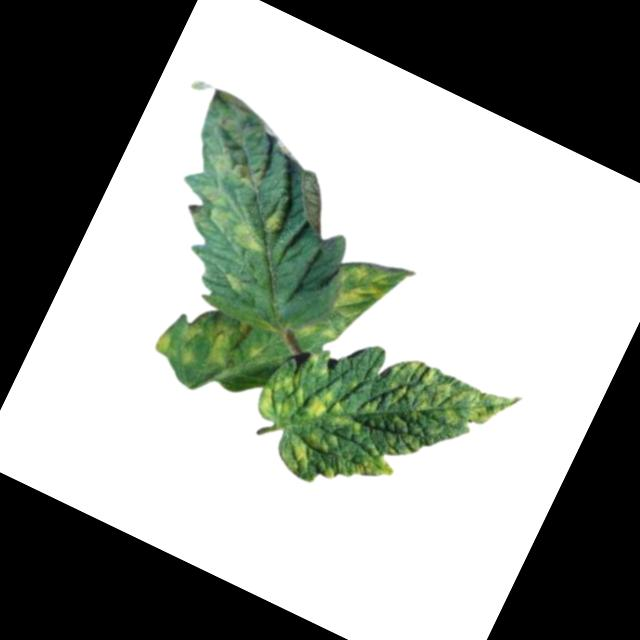Leaf_Mold: (236, 294, 522, 545), (176, 138, 303, 260), (309, 239, 415, 360), (151, 292, 252, 389), (217, 266, 251, 299)
